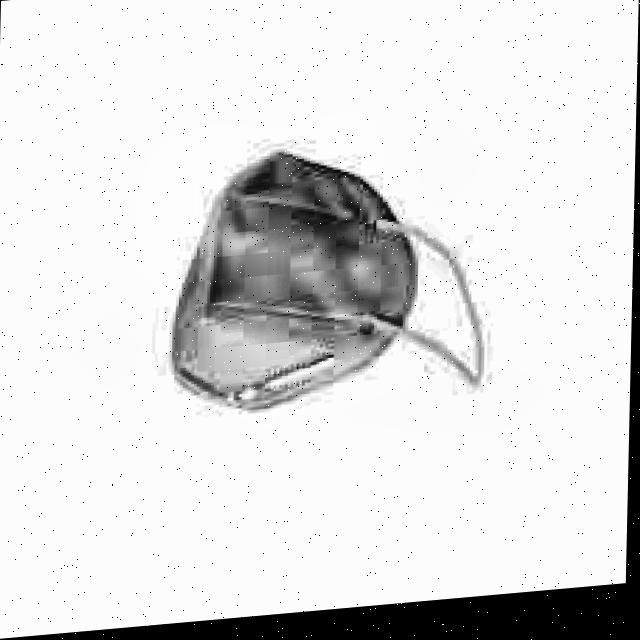trash: (163, 125, 503, 430)
